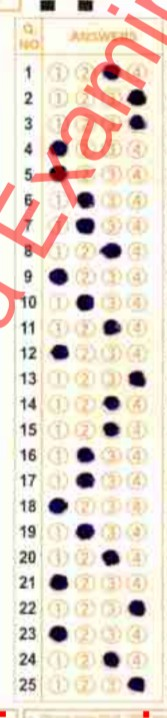filled circles: (49, 268, 68, 286), (100, 242, 121, 258), (49, 625, 67, 642), (50, 574, 68, 591), (76, 217, 94, 234), (128, 599, 145, 616), (50, 139, 67, 156), (77, 191, 94, 208), (128, 89, 146, 105), (103, 319, 121, 335), (76, 523, 94, 539), (76, 472, 94, 488), (49, 497, 67, 513), (102, 549, 119, 565), (76, 294, 93, 310), (49, 166, 67, 181), (103, 651, 119, 667), (103, 63, 119, 79), (129, 370, 145, 386), (51, 344, 68, 359), (77, 447, 94, 462), (128, 676, 144, 691), (103, 396, 120, 410), (129, 115, 146, 129), (103, 422, 119, 436)
